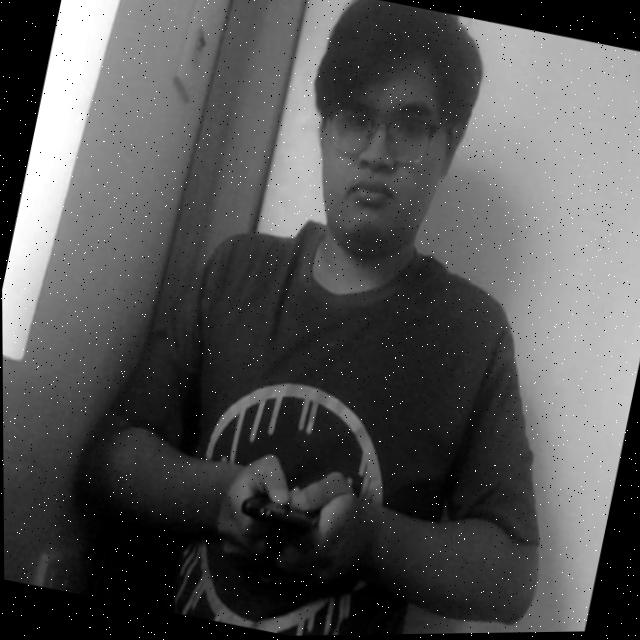phone: (226, 465, 337, 570)
